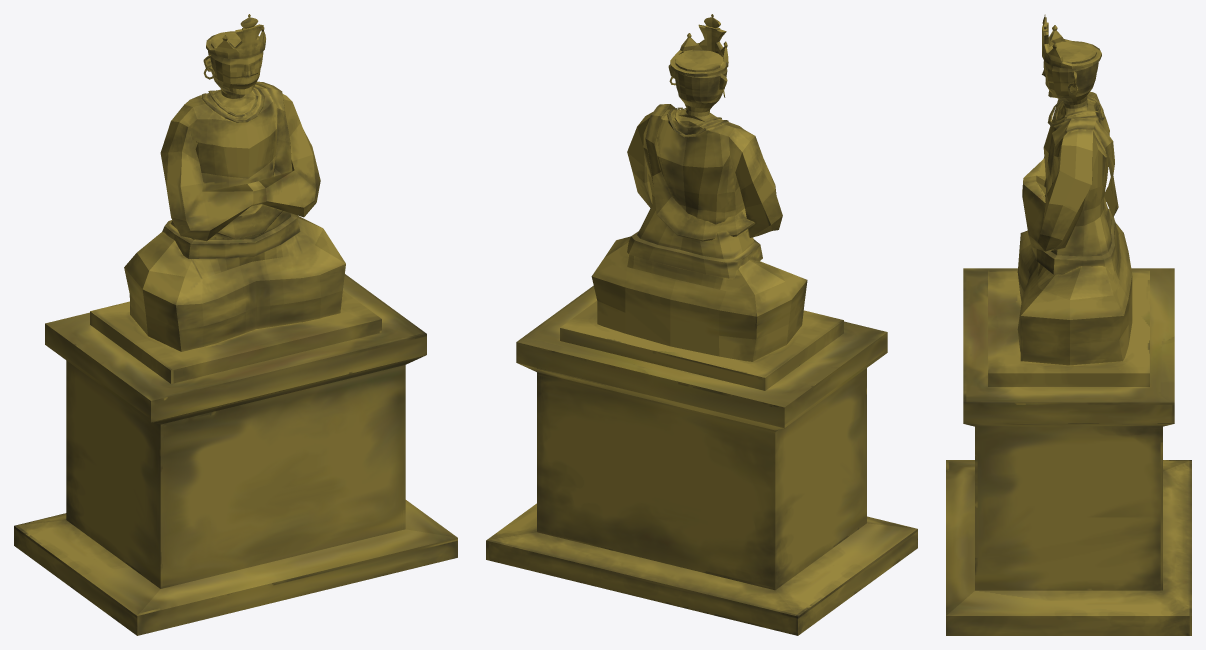
Rendered from f_statue_2.fbx.
3 renders of one model, left to right at view 1: azimuth 30°, elevation 25°; view 2: azimuth 150°, elevation 25°; view 3: azimuth 270°, elevation 25°, orthographic. The views are drawn at different scales.
Parts seen in each view (by area): view 1: f_statue_2; view 2: f_statue_2; view 3: f_statue_2.
Boxes of the visible parts, x1=… form: f_statue_2: x1=14, y1=14, x2=457, y2=635; f_statue_2: x1=486, y1=14, x2=917, y2=635; f_statue_2: x1=946, y1=14, x2=1191, y2=635.
Bounding box in the file's own units: 517 × 842 × 344.
Materials: 1 (1 with a texture image).
